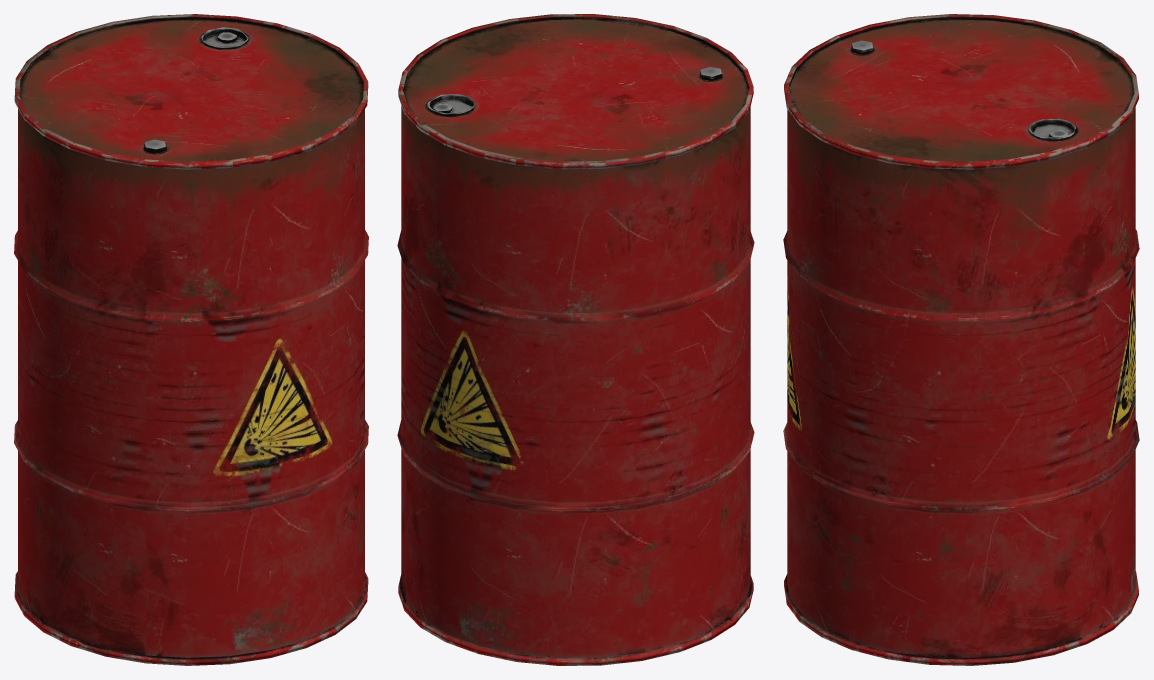
The model's file is Barrel_01.glb.
The picture shows the model from 3 angles, left to right: view 1: azimuth 30°, elevation 25°; view 2: azimuth 150°, elevation 25°; view 3: azimuth 270°, elevation 25°; orthographic projection.
Parts seen in each view (by area): view 1: Barrel_01; view 2: Barrel_01; view 3: Barrel_01.
Boxes of the visible parts, bbox=[...] form: Barrel_01: bbox=[14, 14, 368, 665]; Barrel_01: bbox=[397, 14, 754, 665]; Barrel_01: bbox=[783, 14, 1139, 665].
Size of the model in its own units: 0.5628 by 0.8789 by 0.5628.
Materials: 1 (1 with a texture image).
